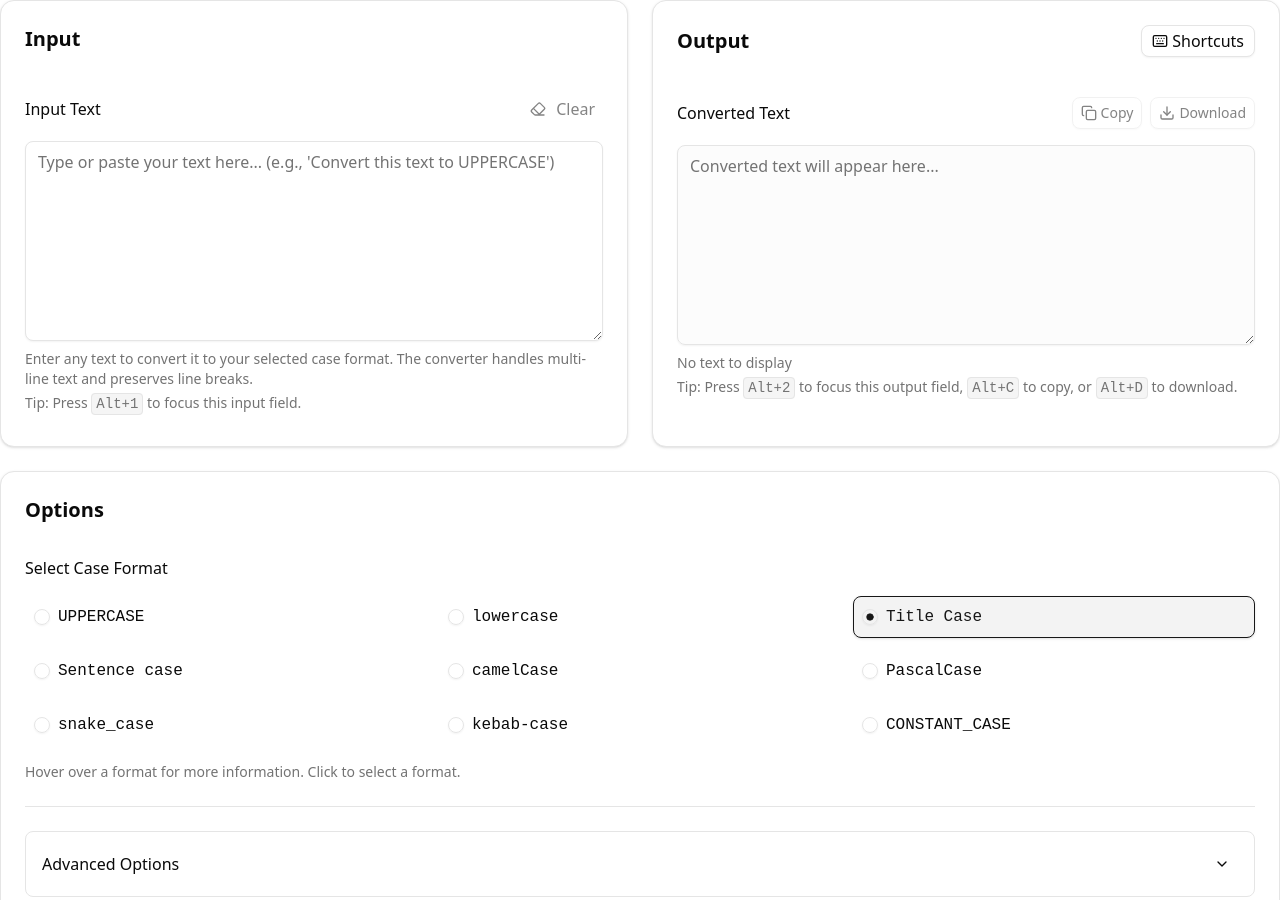
Test: TextCaseConverter › handles programming case formats correctly
Replace the text in the text box with test id "text-input" with "hello world test" at (314, 241), box [25,141,603,341]
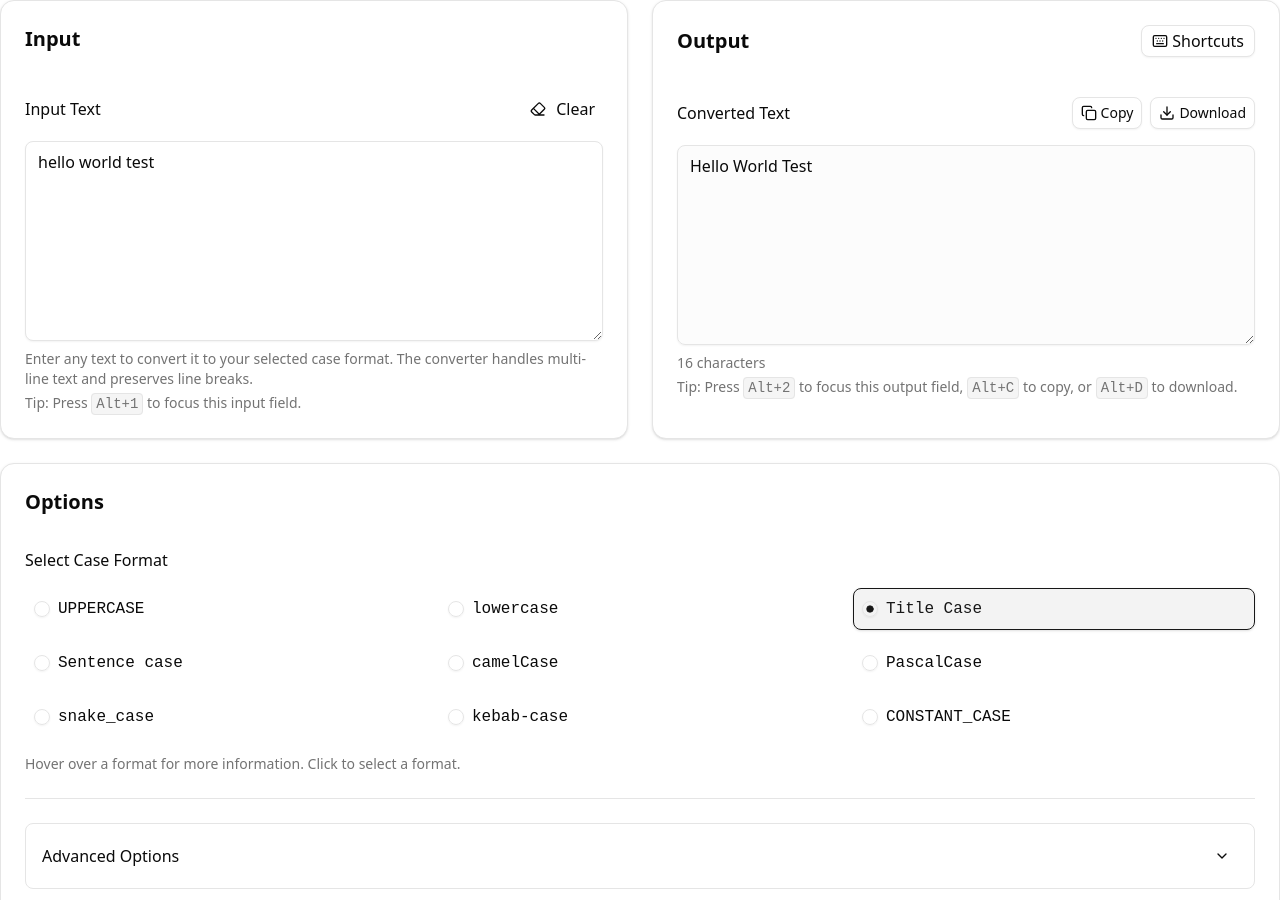
Note: Test camelCase
Click the radio button named "camelCase" next to "camelCase".
click(456, 663)  # box [448,655,464,671]
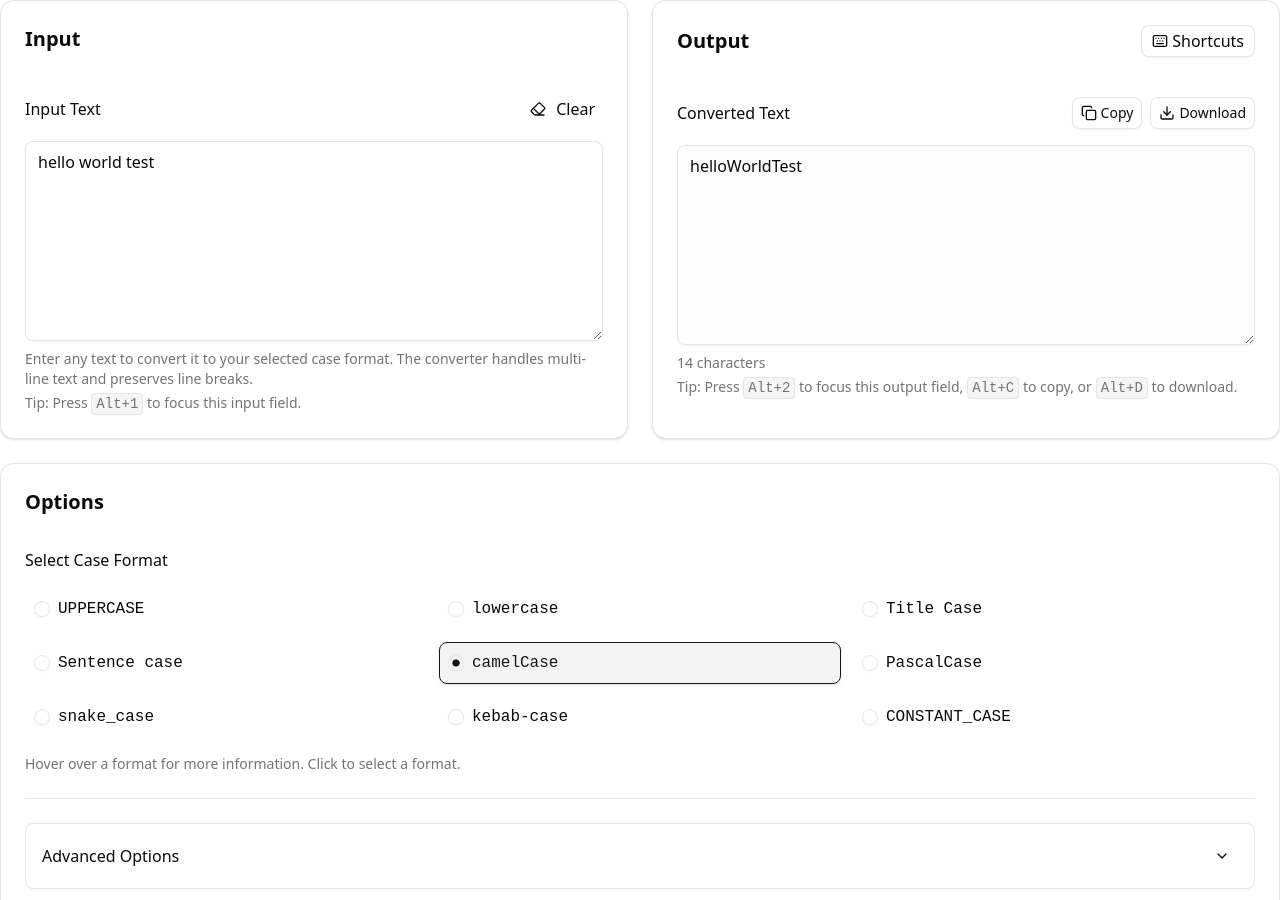
Result: the text box with test id "output-textarea" holds "helloWorldTest" at [677,145,1255,345]
Note: Test snake_case
Click the radio button named "snake_case" next to "snake_case".
click(42, 717)  # box [34,709,50,725]
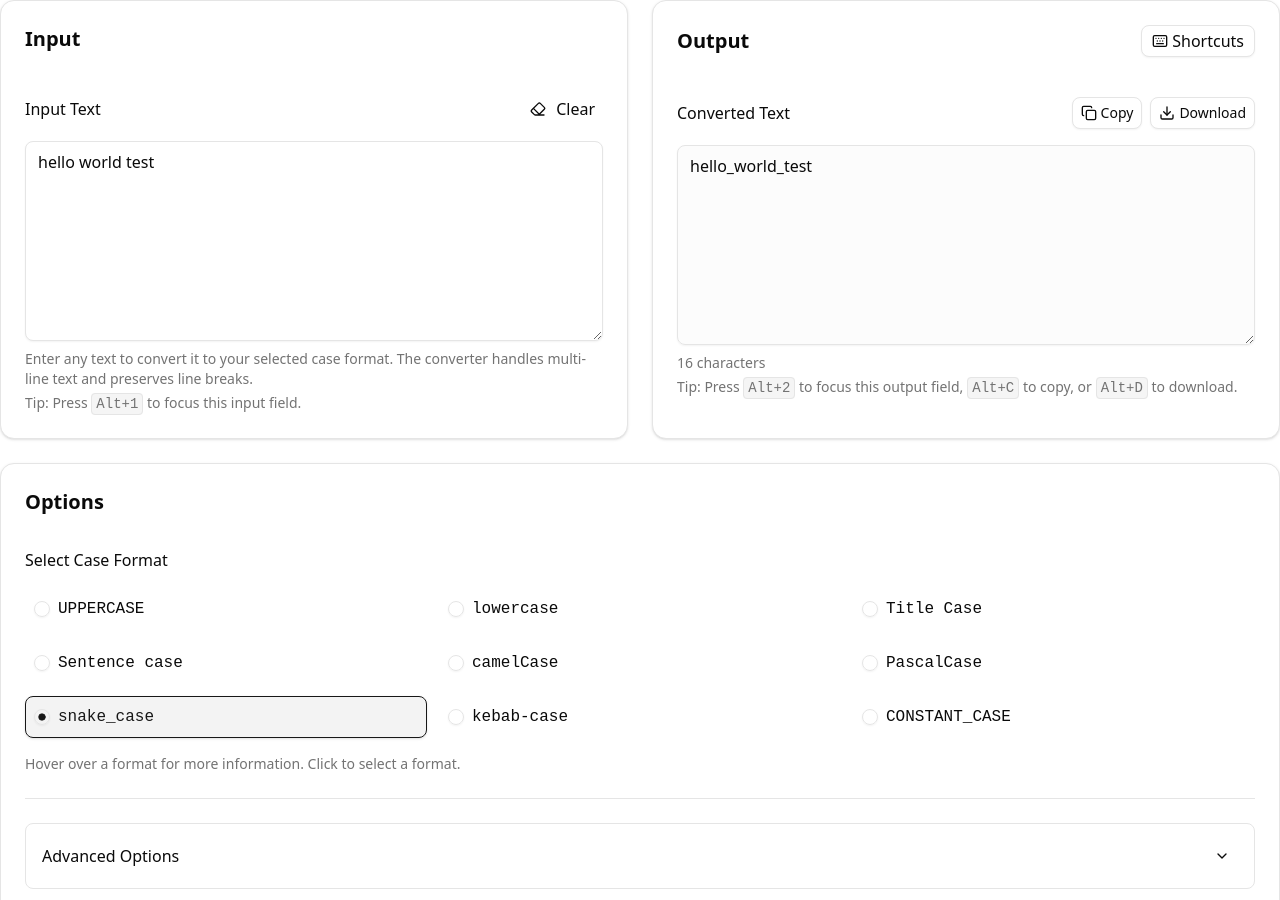
Result: the text box with test id "output-textarea" holds "hello_world_test" at [677,145,1255,345]
Note: Test kebab-case
Click the radio button named "kebab-case" next to "kebab-case".
click(456, 717)  # box [448,709,464,725]
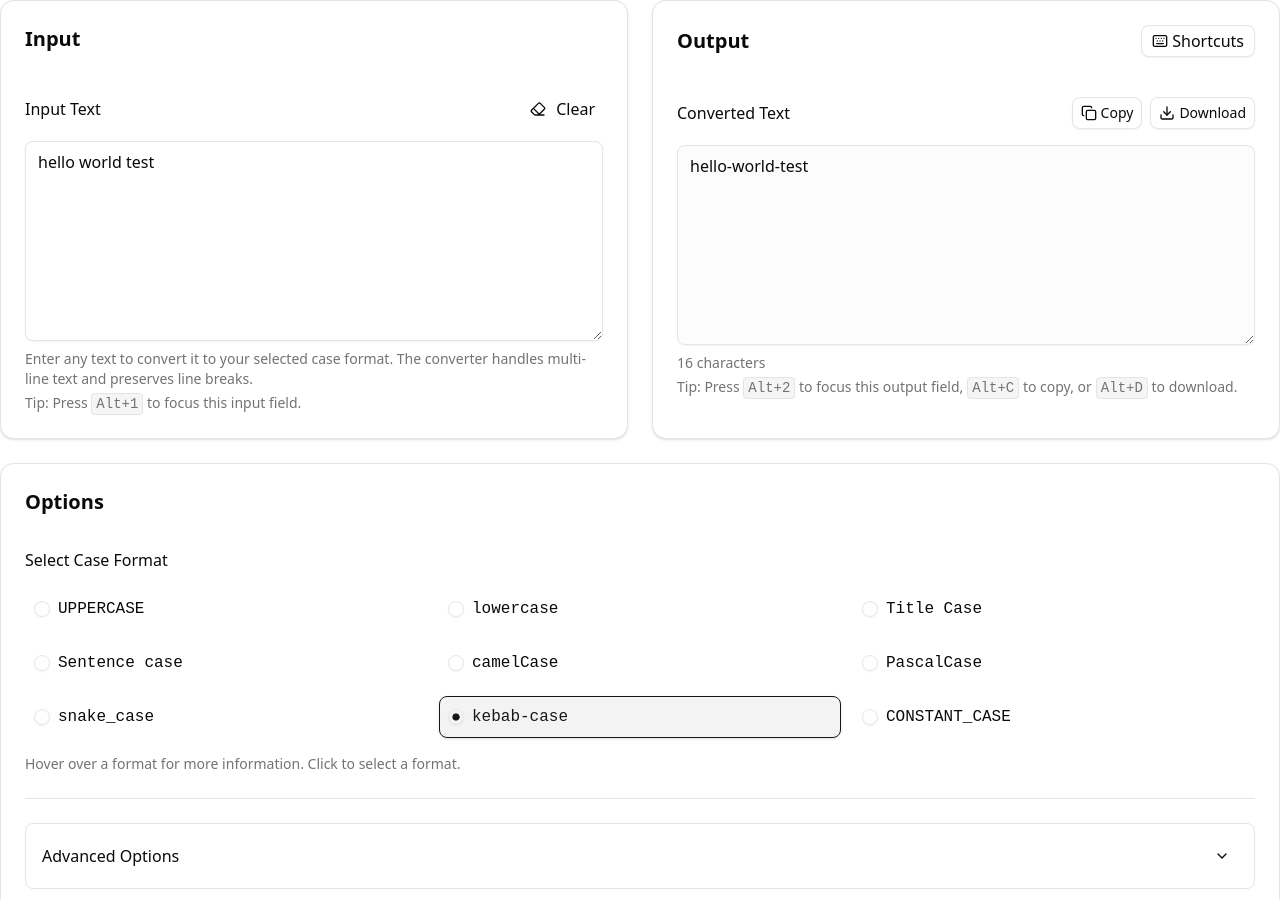
Result: the text box with test id "output-textarea" holds "hello-world-test" at [677,145,1255,345]
